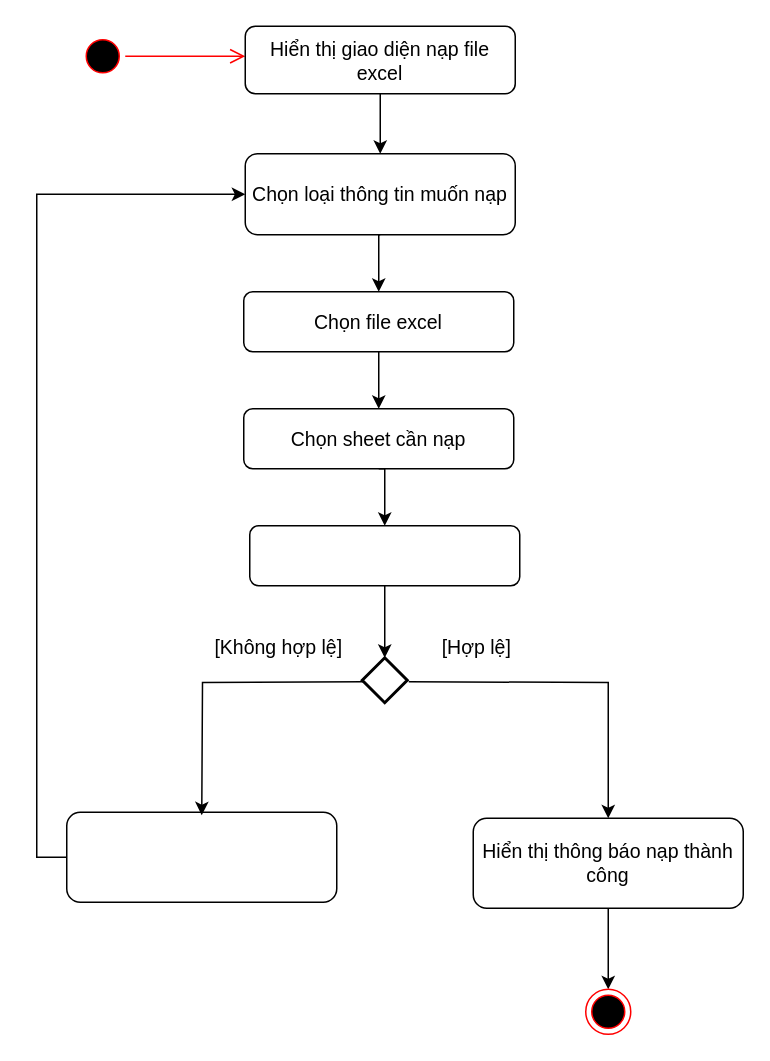
This 770x1061 diagram has some shape labels left out. Here are the shapes that lost their labels. From the top down, the box of each, then its label:
(248, 524, 520, 586): Kiểm tra dữ liệu nạp lên
(65, 811, 337, 902): Hiển thị thông báo lỗi
